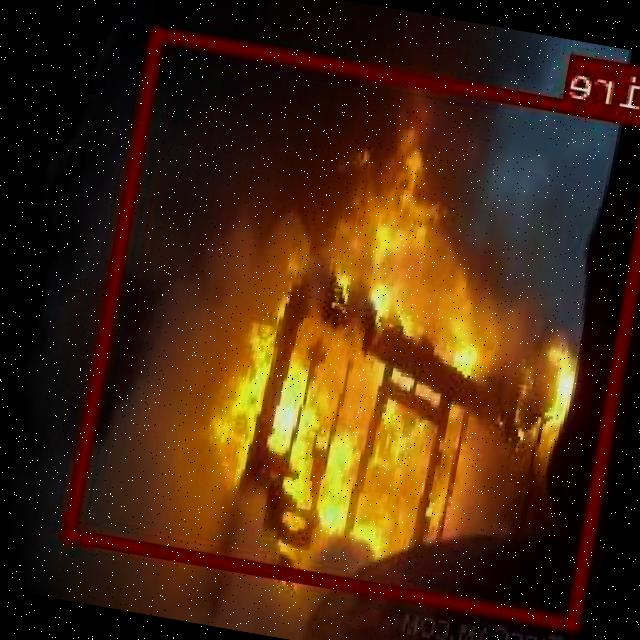fire: (66, 26, 640, 629)
